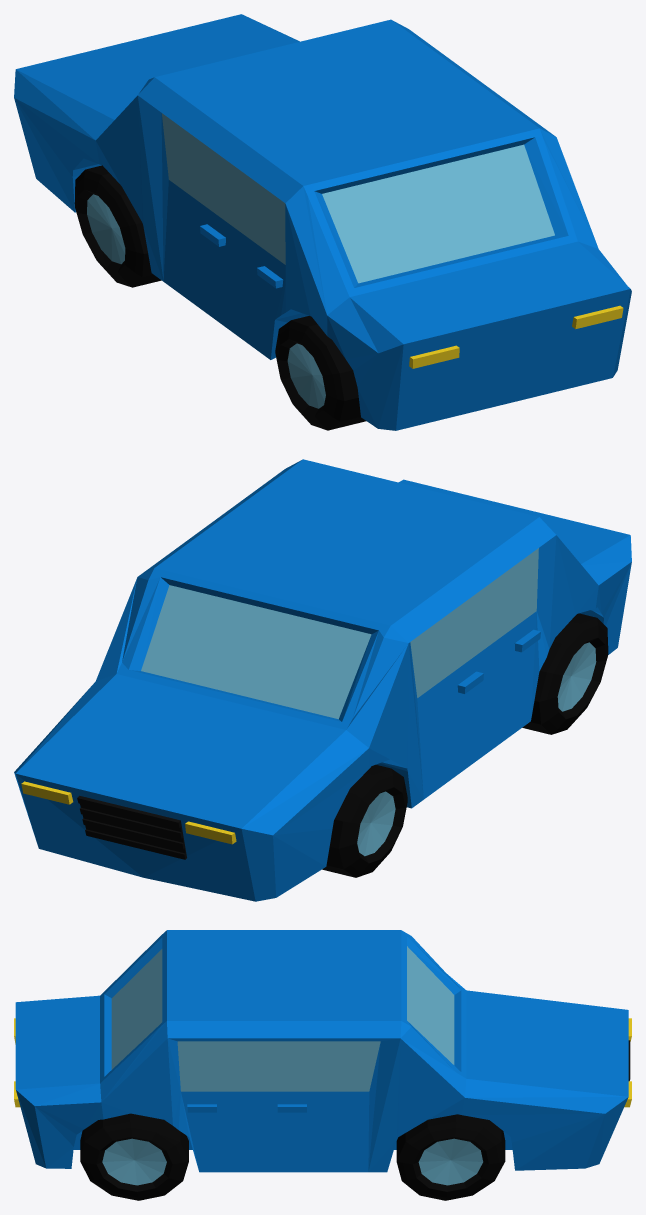
File: Car001.FBX
3 views of the same model, one above another, from view 1: azimuth 30°, elevation 25°; view 2: azimuth 150°, elevation 25°; view 3: azimuth 270°, elevation 25° (orthographic). The views are drawn at different scales.
Visible parts, largest first — view 1: Box002; view 2: Box002; view 3: Box002.
Part boxes in pixels (x1,y1,x2,y2): Box002: [14, 14, 631, 430]; Box002: [14, 459, 631, 901]; Box002: [14, 930, 631, 1200].
Size of the model in its own units: 34.05 by 25.45 by 80.92.
